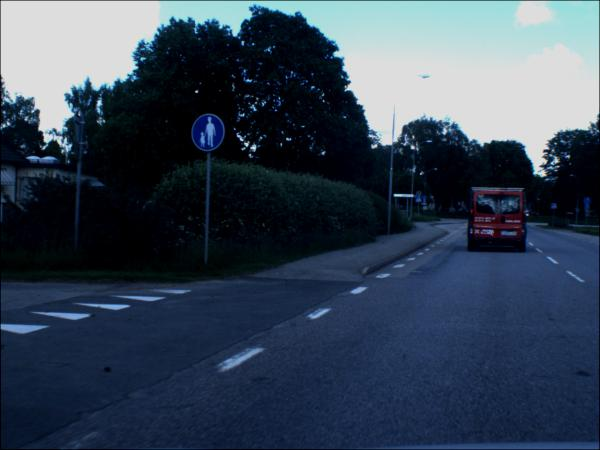PEDESTRIAN_CROSSING: (415, 197, 423, 205), (551, 204, 557, 211)
